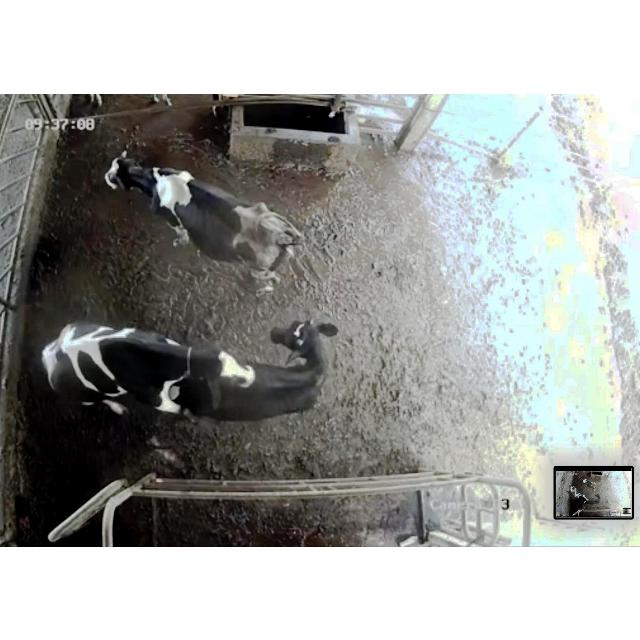ride: (27, 316, 262, 452)
